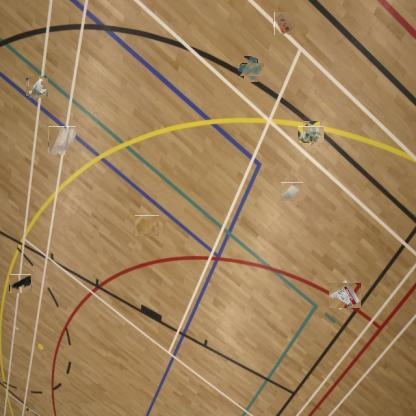dirty: (331, 280, 359, 310), (48, 126, 76, 155), (274, 12, 296, 35), (301, 124, 322, 145), (282, 182, 304, 201), (9, 274, 31, 293), (28, 77, 48, 97)
liquid: (135, 215, 159, 236), (241, 60, 261, 80)
